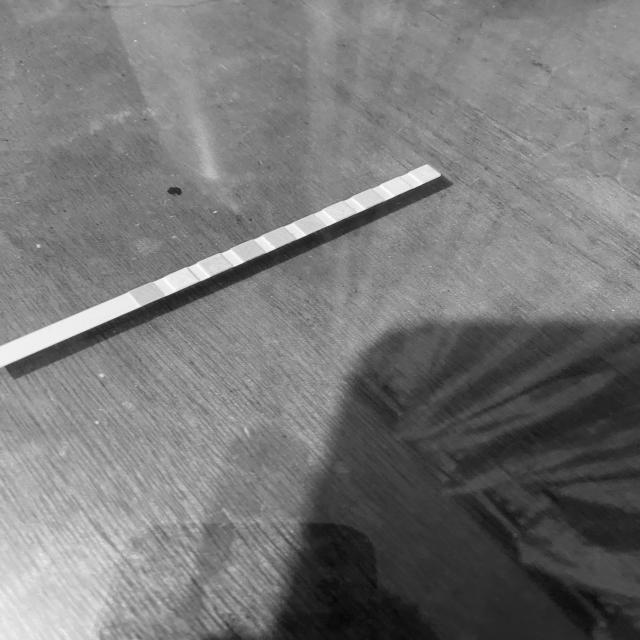Bilirubin: (172, 274, 190, 284)
Blood: (272, 232, 289, 243)
Glucose: (138, 289, 156, 300)
Ketone: (205, 260, 224, 270)
Leukocytes: (419, 168, 433, 180)
Nitrite: (390, 181, 404, 191)
Protein: (333, 206, 347, 217)
SpGravity: (239, 246, 258, 256)
Urobilinogen: (360, 193, 378, 203)
background: (0, 0, 640, 640)
pH: (302, 220, 318, 230)
strip: (0, 165, 441, 368)
